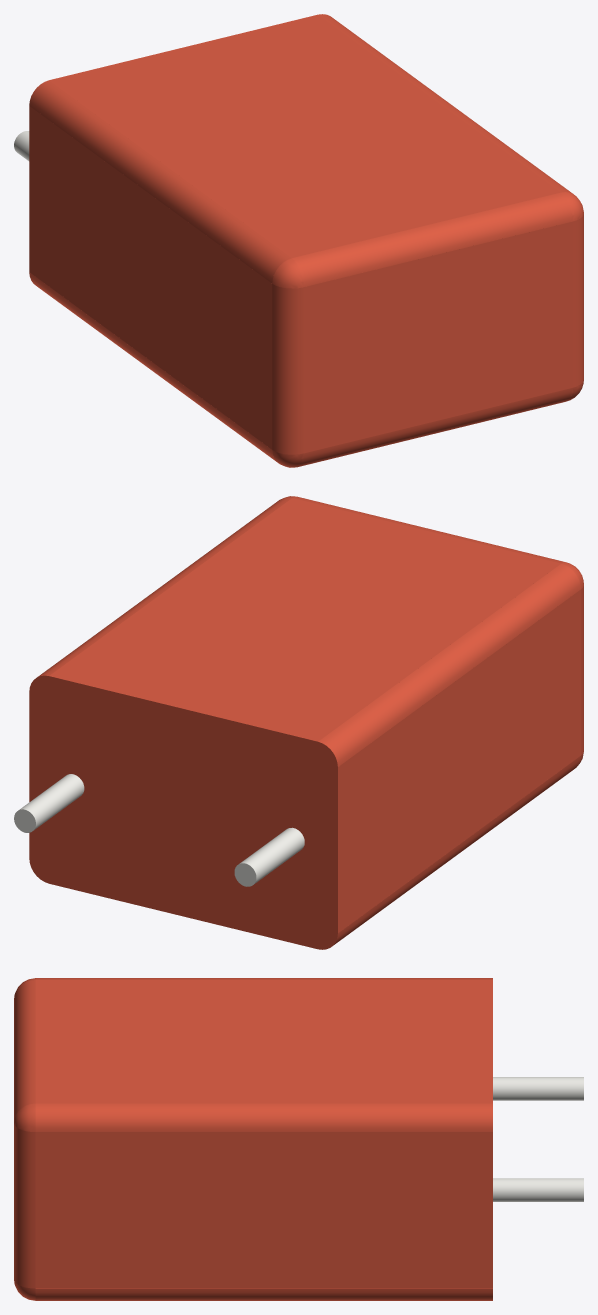
File: C_Rect_L7.0mm_W4.5mm_P5.00mm.glb
3 renders of one model, top to bottom at view 1: azimuth 30°, elevation 25°; view 2: azimuth 150°, elevation 25°; view 3: azimuth 270°, elevation 25°, orthographic. The views are drawn at different scales.
Parts seen in each view (by area): view 1: Shape_IndexedFaceSet.009, Shape_IndexedFaceSet.008, Shape_IndexedFaceSet, Shape_IndexedFaceSet.004, Shape_IndexedFaceSet.016, Shape_IndexedFaceSet.002, Shape_IndexedFaceSet.015, Shape_IndexedFaceSet.001, Shape_IndexedFaceSet.011, Shape_IndexedFaceSet.017, Shape_IndexedFaceSet.007; view 2: Shape_IndexedFaceSet.009, Shape_IndexedFaceSet.003, Shape_IndexedFaceSet, Shape_IndexedFaceSet.004, Shape_IndexedFaceSet.001, Shape_IndexedFaceSet.011, Shape_IndexedFaceSet.013, Shape_IndexedFaceSet.014, Shape_IndexedFaceSet.016; view 3: Shape_IndexedFaceSet.012, Shape_IndexedFaceSet.009, Shape_IndexedFaceSet.011, Shape_IndexedFaceSet.010, Shape_IndexedFaceSet.017, Shape_IndexedFaceSet.016, Shape_IndexedFaceSet.013, Shape_IndexedFaceSet.014, Shape_IndexedFaceSet.004, Shape_IndexedFaceSet.019, Shape_IndexedFaceSet.006.
Boxes of the visible parts, x1,y1,x2,y2 form: Shape_IndexedFaceSet.009: (49, 14, 560, 257); Shape_IndexedFaceSet.008: (303, 221, 572, 453); Shape_IndexedFaceSet: (29, 106, 272, 449); Shape_IndexedFaceSet.004: (29, 80, 291, 283); Shape_IndexedFaceSet.016: (292, 192, 572, 286); Shape_IndexedFaceSet.002: (272, 284, 303, 454); Shape_IndexedFaceSet.015: (298, 388, 572, 466); Shape_IndexedFaceSet.001: (29, 272, 277, 462); Shape_IndexedFaceSet.011: (318, 14, 572, 193); Shape_IndexedFaceSet.017: (572, 214, 583, 387); Shape_IndexedFaceSet.007: (272, 258, 303, 288); Shape_IndexedFaceSet.009: (49, 498, 560, 741); Shape_IndexedFaceSet.003: (29, 675, 337, 949); Shape_IndexedFaceSet: (338, 589, 580, 932); Shape_IndexedFaceSet.004: (318, 564, 580, 766); Shape_IndexedFaceSet.001: (333, 756, 580, 945); Shape_IndexedFaceSet.011: (37, 497, 291, 677); Shape_IndexedFaceSet.013: (239, 827, 304, 883); Shape_IndexedFaceSet.014: (19, 774, 84, 829); Shape_IndexedFaceSet.016: (292, 496, 565, 563); Shape_IndexedFaceSet.012: (35, 1132, 492, 1288); Shape_IndexedFaceSet.009: (35, 980, 492, 1103); Shape_IndexedFaceSet.011: (35, 1103, 492, 1131); Shape_IndexedFaceSet.010: (35, 1288, 492, 1300); Shape_IndexedFaceSet.017: (14, 1124, 35, 1288); Shape_IndexedFaceSet.016: (14, 980, 35, 1121); Shape_IndexedFaceSet.013: (493, 1077, 583, 1100); Shape_IndexedFaceSet.014: (493, 1178, 583, 1201); Shape_IndexedFaceSet.004: (35, 978, 492, 979); Shape_IndexedFaceSet.019: (14, 1103, 35, 1131); Shape_IndexedFaceSet.006: (36, 1288, 492, 1288).
Bounding box in the file's own units: 2.76 × 1.77 × 4.69.
